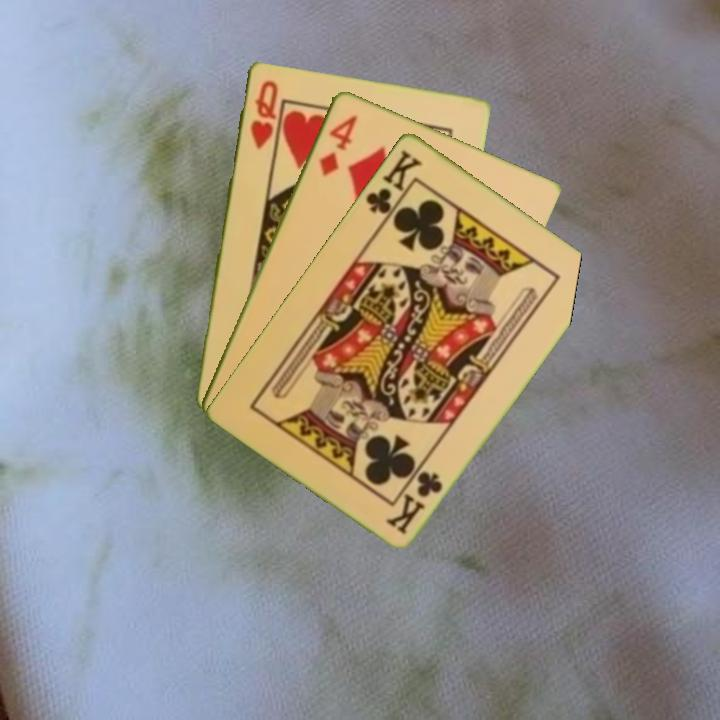4d: (315, 110, 360, 178)
Kc: (361, 145, 425, 225), (383, 466, 446, 537)
Qh: (246, 76, 281, 152)
